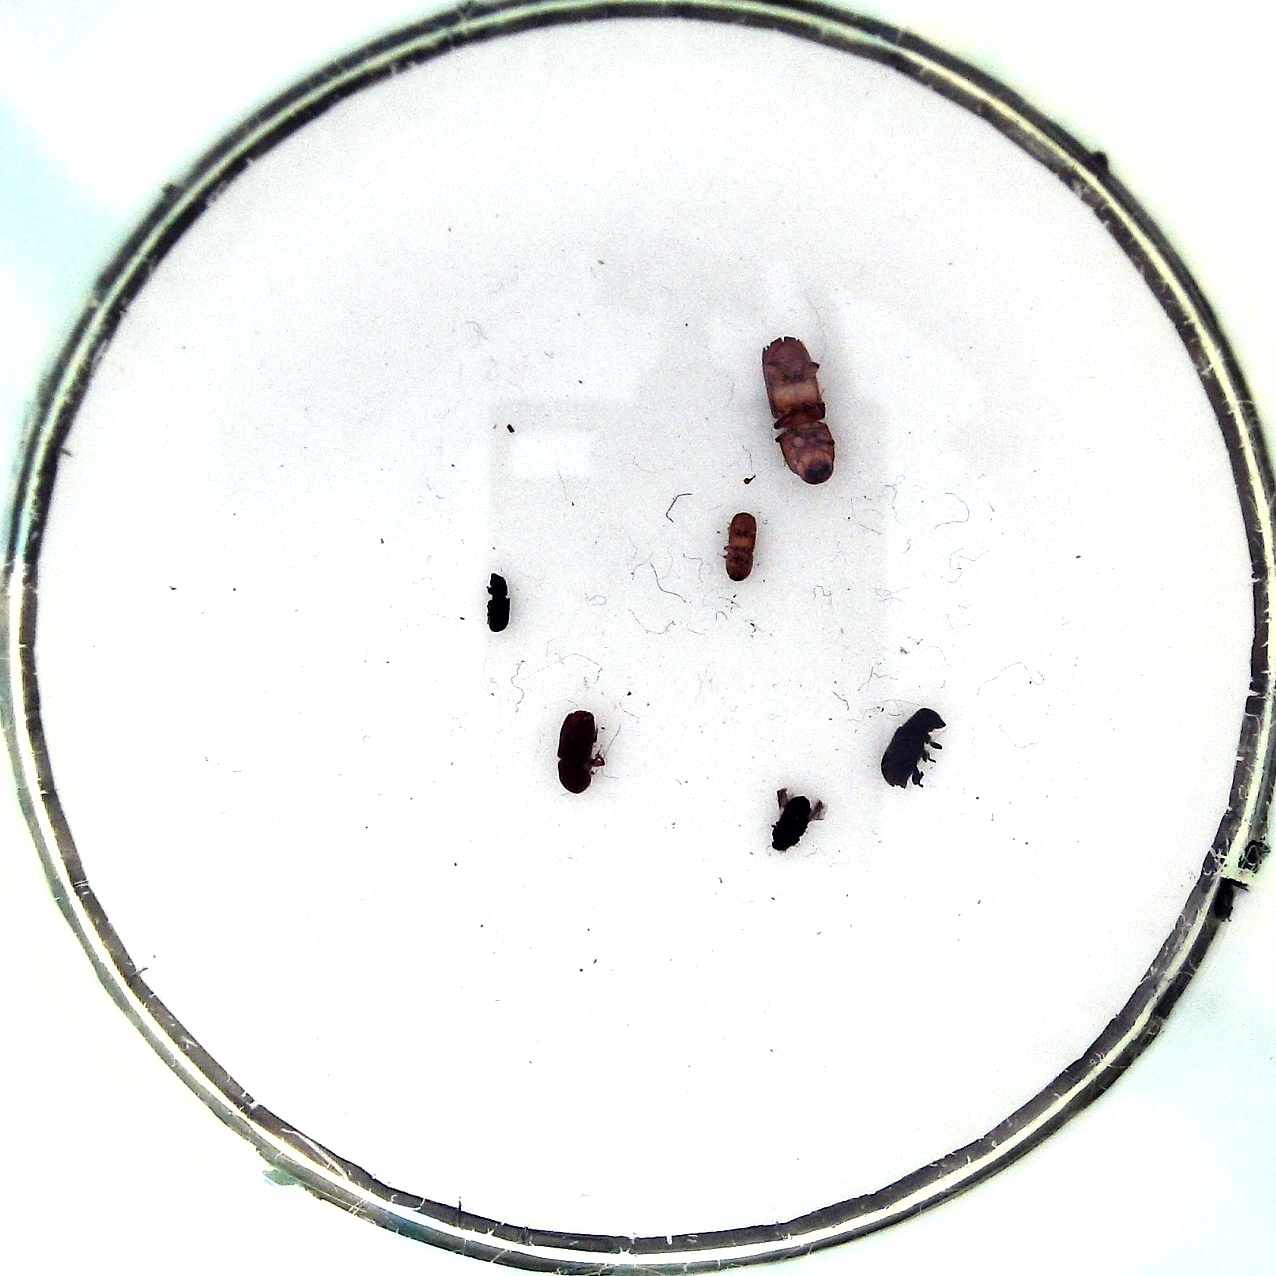Boerner: (762, 335, 835, 485)
acuminatus: (772, 796, 813, 852), (485, 573, 511, 633)
armandi: (881, 709, 946, 789)
coleoptera: (724, 512, 757, 581)
linnaeus: (556, 710, 599, 795)
